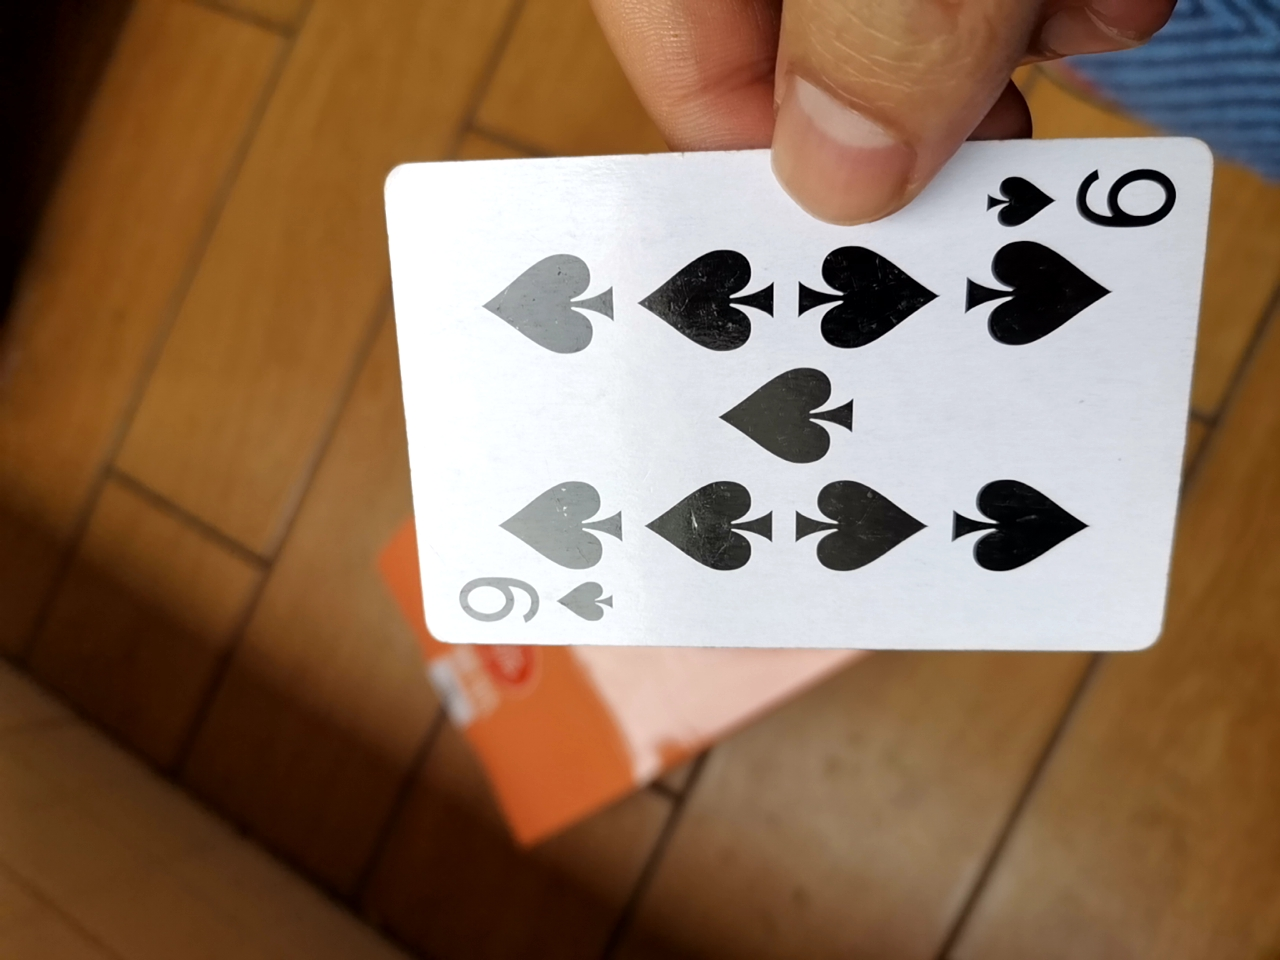ht 9: (362, 139, 1192, 667)
